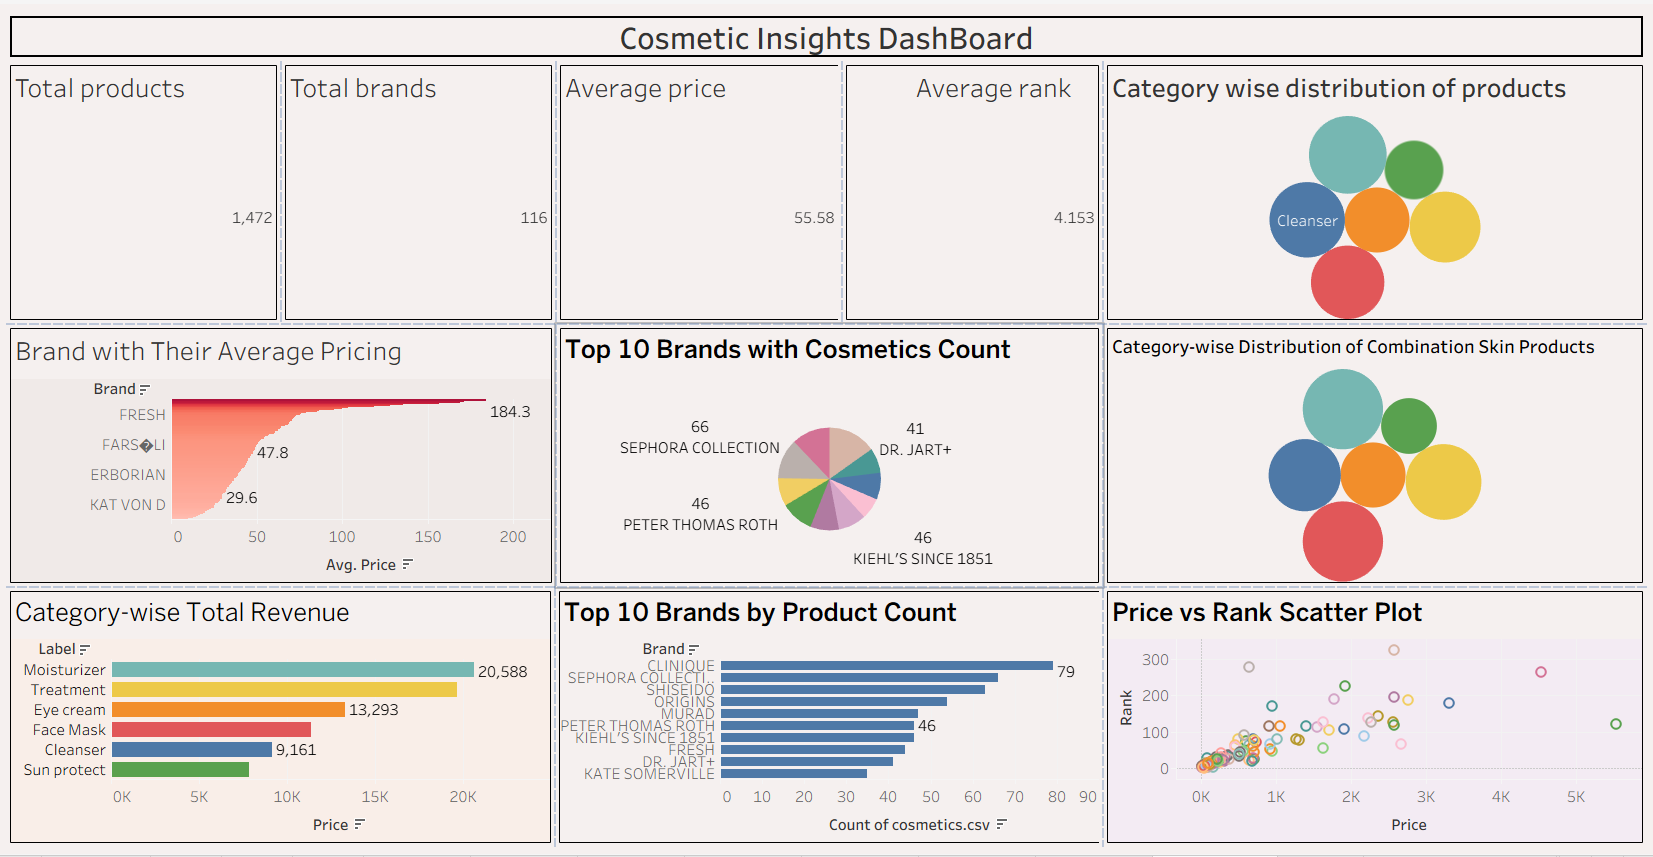

The dashboard page shown, as its layout file describes it:
{"tool":"tableau","page":{"name":"Dashboard 1","canvas":[1000,1000],"units":"permille","ordinal":0},"visuals":[{"type":"title","box":[4.8,9.4,990.3,57.6]},{"type":"worksheet","title":" sheet 3(3-1)","mark":"Automatic","box":[4.8,67,165.8,309.2]},{"type":"worksheet","title":"Sheet 4","mark":"Automatic","box":[170.6,67,165.8,309.2]},{"type":"worksheet","title":"Sheet 5","mark":"Automatic","box":[336.5,67,173.1,309.2]},{"type":"worksheet","title":"Sheet 6","mark":"Automatic","box":[509.5,67,157.2,309.2]},{"type":"worksheet","title":"Sheet 7(3-2)","mark":"Circle","box":[666.8,67,328.4,309.2]},{"type":"worksheet","title":"Sheet 8(3-3)","mark":"Automatic","rows":["Brand"],"cols":["Price"],"box":[4.8,376.2,331.6,309.2]},{"type":"worksheet","title":"Sheet 9(3-4)","mark":"Pie","box":[336.5,376.2,330.3,309.2]},{"type":"worksheet","title":"Sheet 10(3-5)","mark":"Circle","box":[666.8,376.2,328.4,309.2]},{"type":"worksheet","title":"Sheet 11(3-6)","mark":"Automatic","rows":["Label"],"cols":["Price"],"box":[4.8,685.4,331.1,305.2]},{"type":"worksheet","title":"Sheet 12(3-7)","mark":"Automatic","rows":["Brand"],"cols":["cosmetics.csv_3F068CEAC22249FEA78D5C81AC75DA01"],"box":[335.9,685.4,331.1,305.2]},{"type":"worksheet","title":"Sheet 13(3-8)","mark":"Automatic","rows":["Rank"],"cols":["Price"],"box":[667,685.4,328.2,305.2]}]}

Visuals, with their boxes on the dashboard's canvas, which has no fixed pixel size, in thousandths of its width and height (x1, y1, x2, y2). These are canvas units, not pixel positions in the 1653x857 screenshot, which may show the page scaled, cropped or inside an application window:
title: (x1=5, y1=9, x2=995, y2=67)
" sheet 3(3-1)" worksheet: (x1=5, y1=67, x2=171, y2=376)
"Sheet 4" worksheet: (x1=171, y1=67, x2=336, y2=376)
"Sheet 5" worksheet: (x1=336, y1=67, x2=510, y2=376)
"Sheet 6" worksheet: (x1=510, y1=67, x2=667, y2=376)
"Sheet 7(3-2)" worksheet (Circle marks): (x1=667, y1=67, x2=995, y2=376)
"Sheet 8(3-3)" worksheet: (x1=5, y1=376, x2=336, y2=685)
"Sheet 9(3-4)" worksheet (Pie marks): (x1=336, y1=376, x2=667, y2=685)
"Sheet 10(3-5)" worksheet (Circle marks): (x1=667, y1=376, x2=995, y2=685)
"Sheet 11(3-6)" worksheet: (x1=5, y1=685, x2=336, y2=991)
"Sheet 12(3-7)" worksheet: (x1=336, y1=685, x2=667, y2=991)
"Sheet 13(3-8)" worksheet: (x1=667, y1=685, x2=995, y2=991)
